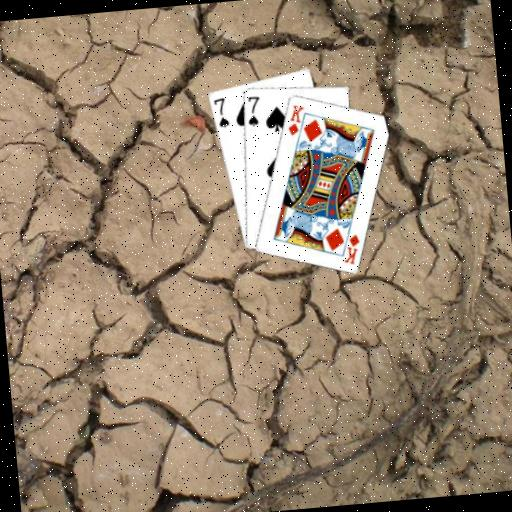7S: (210, 95, 231, 130), (242, 93, 262, 128)
KD: (283, 100, 308, 137), (338, 230, 363, 266)
